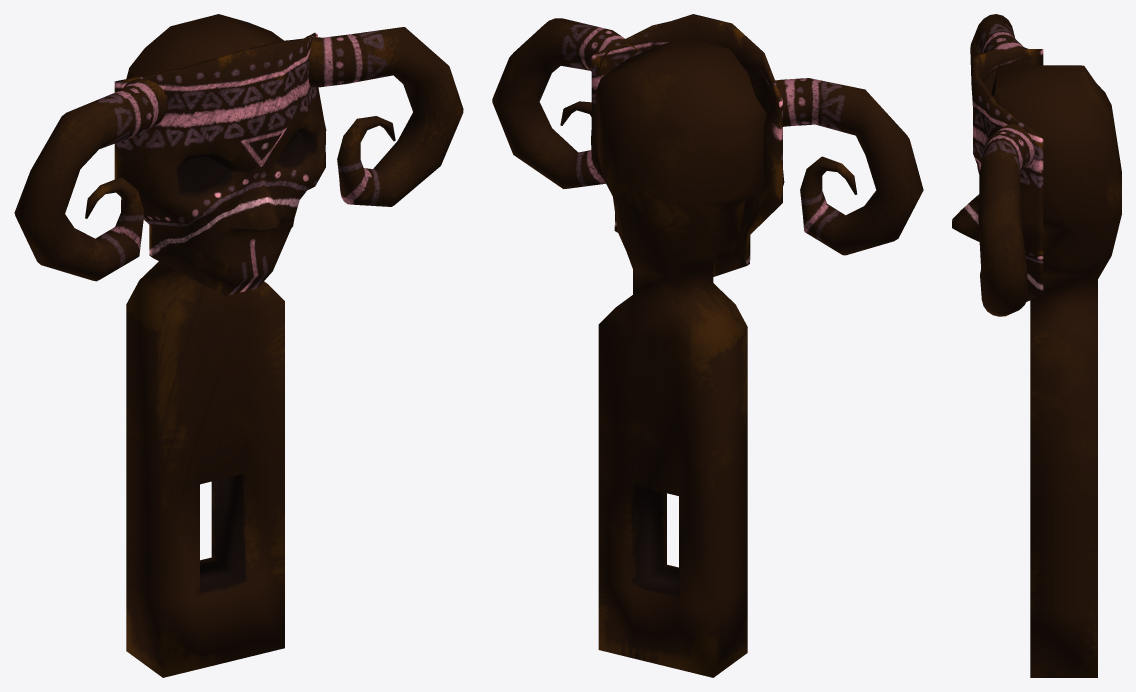
File: Fetisch_SM.FBX
3 renders of one model, left to right at view 1: azimuth 30°, elevation 25°; view 2: azimuth 150°, elevation 25°; view 3: azimuth 270°, elevation 25°, orthographic. The views are drawn at different scales.
Parts seen in each view (by area): view 1: Box001, Plane002, Cylinder003; view 2: Box001, Cylinder003, Plane002; view 3: Box001, Cylinder003, Plane002.
Part boxes in pixels (<box>): Box001: <box>126,14,284,677</box>; Plane002: <box>114,32,326,295</box>; Cylinder003: <box>14,27,463,281</box>; Box001: <box>596,37,766,677</box>; Cylinder003: <box>492,18,923,255</box>; Plane002: <box>591,14,784,276</box>; Box001: <box>991,65,1121,677</box>; Cylinder003: <box>970,14,1034,316</box>; Plane002: <box>952,49,1043,301</box>.
Bounding box in the file's own units: 18.34 × 24.89 × 6.52.
